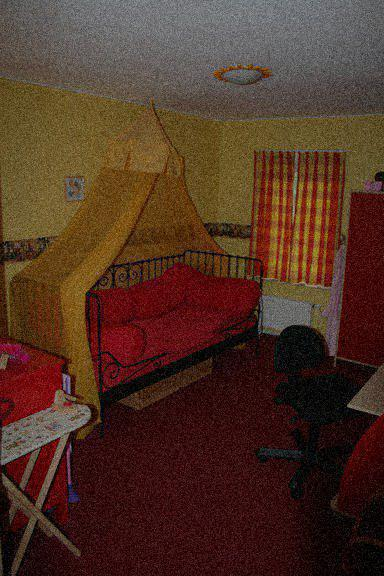Armario: (337, 180, 378, 371)
